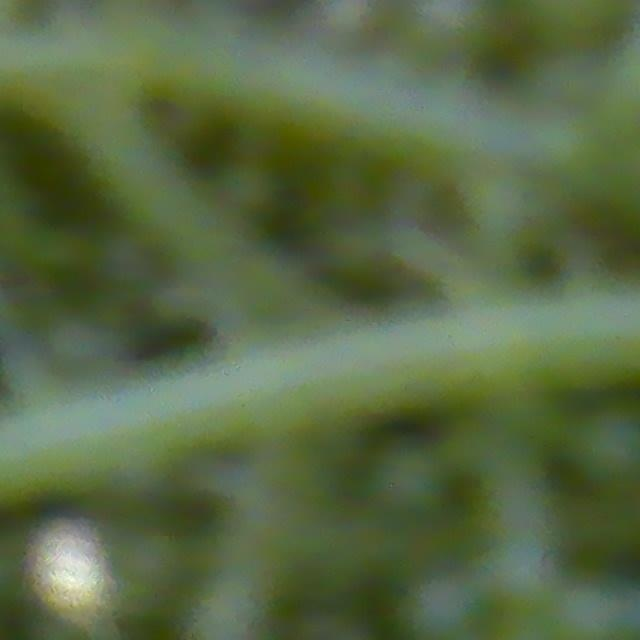SeaGrape: (366, 438, 450, 522), (484, 530, 565, 614), (571, 399, 640, 493), (400, 0, 498, 62), (397, 575, 477, 640), (548, 574, 624, 640)
